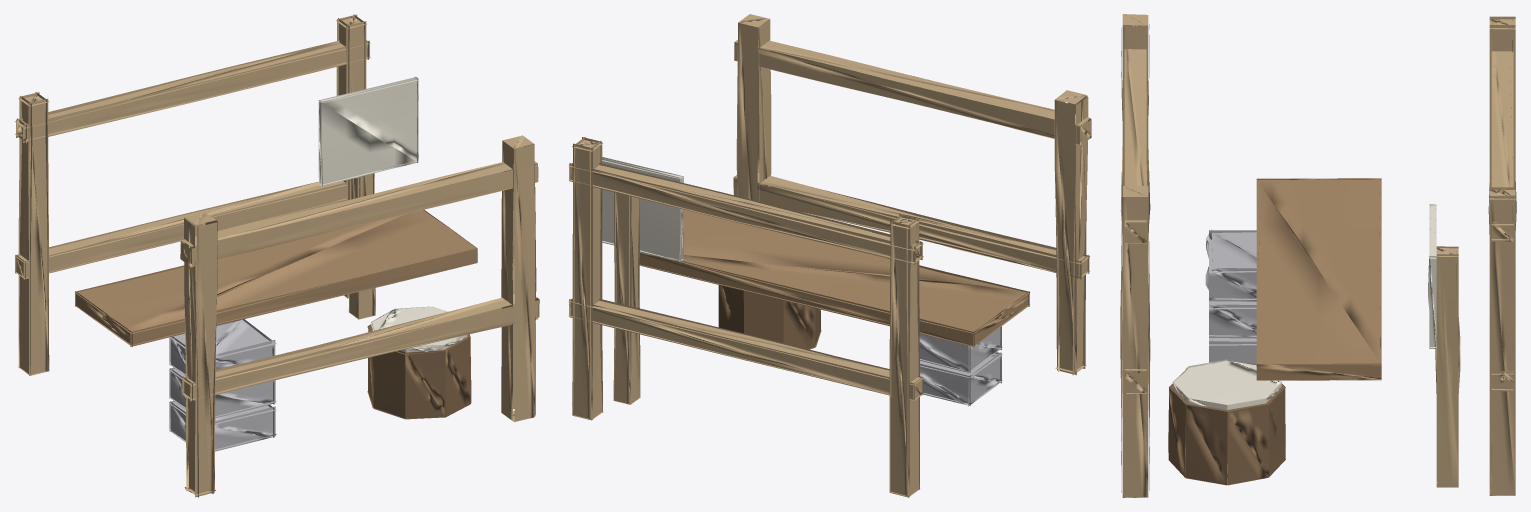
The model's file is construction.glb.
3 views of the same model, side by side, from view 1: azimuth 30°, elevation 25°; view 2: azimuth 150°, elevation 25°; view 3: azimuth 270°, elevation 25° (orthographic). The views are drawn at different scales.
Parts seen in each view (by area): view 1: ScaffoldPost-0.55-0.5; view 2: ScaffoldPost-0.55-0.5; view 3: ScaffoldPost-0.55-0.5.
Part boxes in pixels (left/top/right/bottom): ScaffoldPost-0.55-0.5: left=14, top=14, right=539, bottom=497; ScaffoldPost-0.55-0.5: left=568, top=14, right=1091, bottom=497; ScaffoldPost-0.55-0.5: left=1120, top=14, right=1516, bottom=497.
Bounding box in the file's own units: 1.28 × 0.9171 × 1.08.
